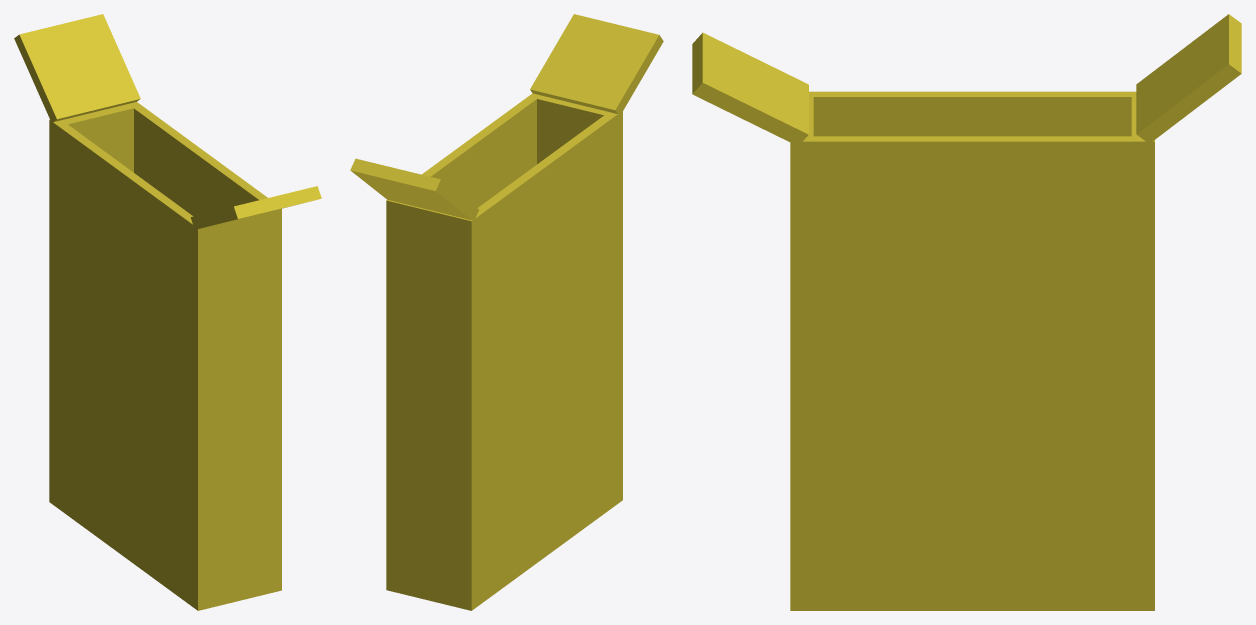
File: Caixa de Sucrilhos.fbx
3 views of the same model, side by side, from view 1: azimuth 30°, elevation 25°; view 2: azimuth 150°, elevation 25°; view 3: azimuth 270°, elevation 25° (orthographic). The views are drawn at different scales.
Parts seen in each view (by area): view 1: Caixa Sucrilhos; view 2: Caixa Sucrilhos; view 3: Caixa Sucrilhos.
Part boxes in pixels (box(x1,y1,x2,y2)): Caixa Sucrilhos: box(14, 14, 321, 610); Caixa Sucrilhos: box(350, 14, 663, 610); Caixa Sucrilhos: box(692, 14, 1241, 610).
Size of the model in its own units: 11.37 by 57.74 by 52.59.
